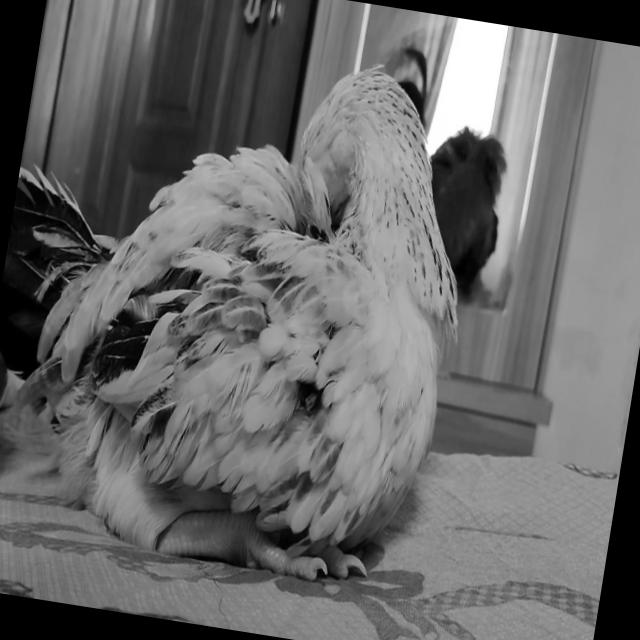self preening: (0, 1, 499, 570)
